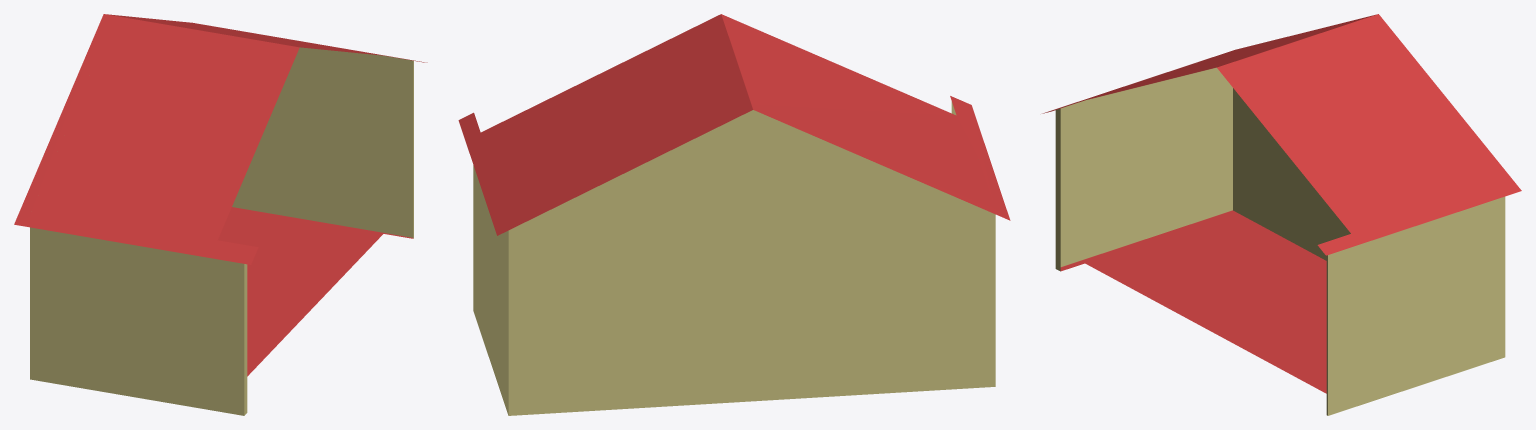
3 views of the same model, side by side, from view 1: azimuth 30°, elevation 25°; view 2: azimuth 150°, elevation 25°; view 3: azimuth 270°, elevation 25° (orthographic). The views are drawn at different scales.
Bounding box in the file's own units: 21.79 × 20.23 × 12.34.
